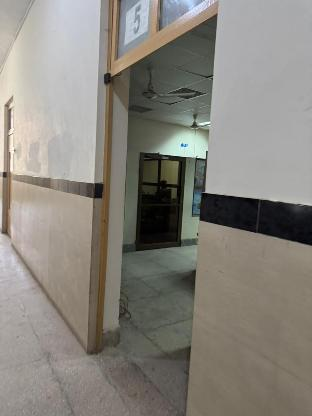door: (82, 0, 226, 416)
